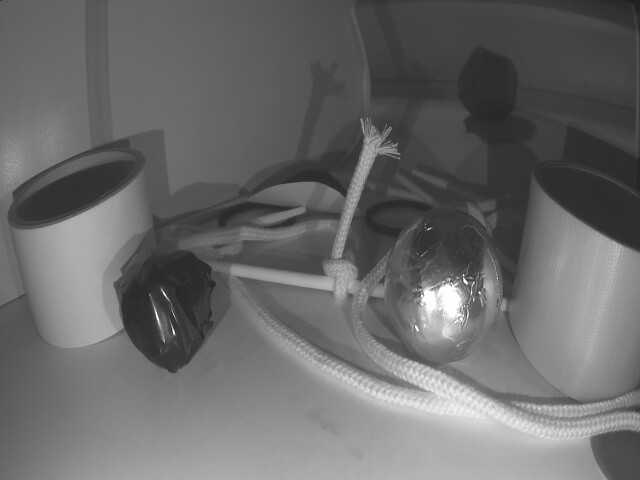Dead: (121, 254, 221, 369)
Live: (389, 205, 503, 365)
